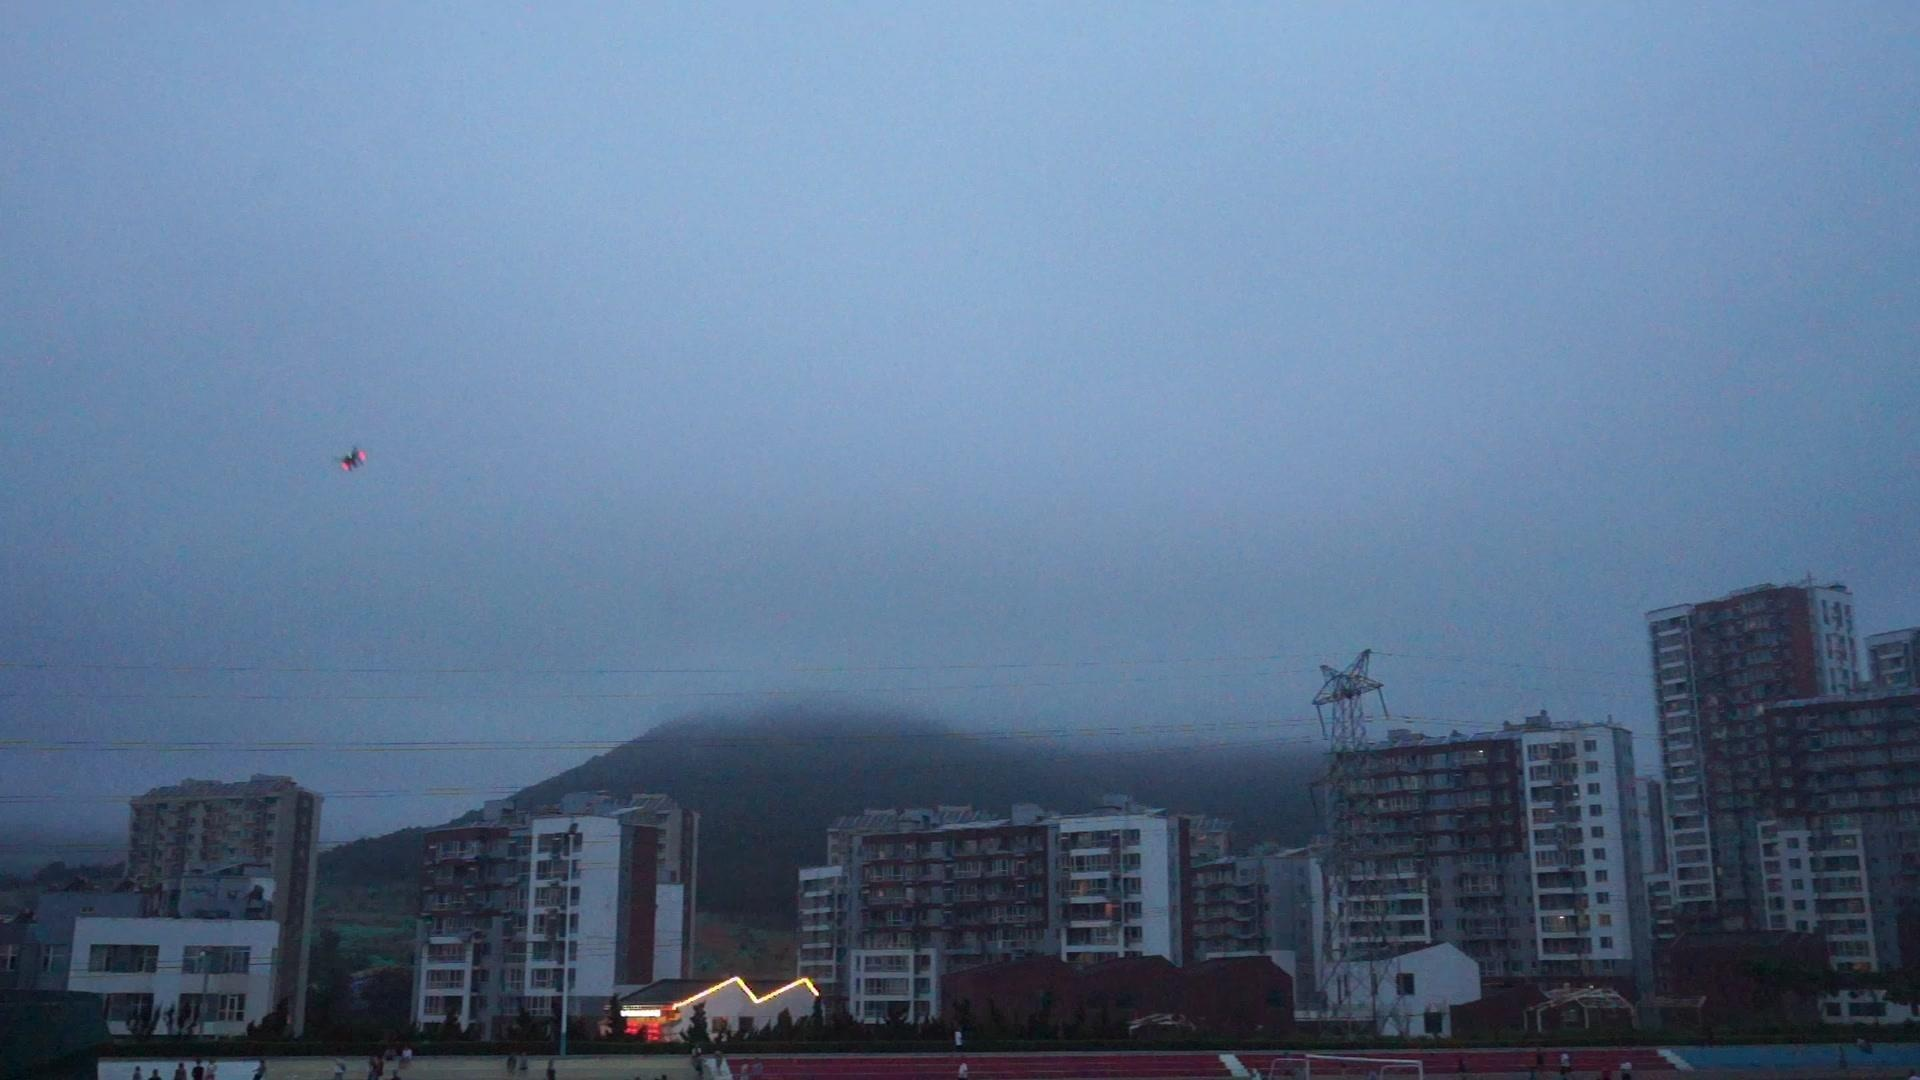UAV: (335, 447, 369, 473)
